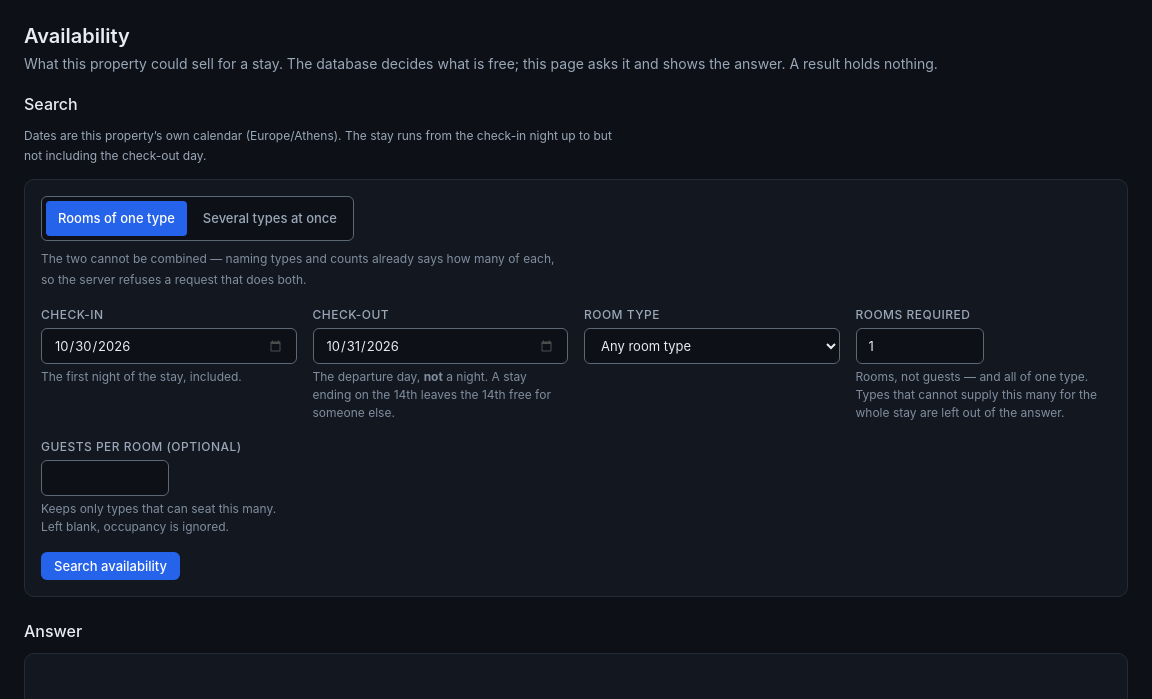
it: a mixed request › cannot express the combination the backend refuses
The width and height of the screenshot is (1152, 699).
Check: the date field labelled "Check-in" is shown, box [41,328,296,364]
Check: the dropdown labelled "Room type" is shown, box [584,328,840,364]
Click the radio button labelled "Several types at once". click: (270, 218)
box: [203,210,337,226]
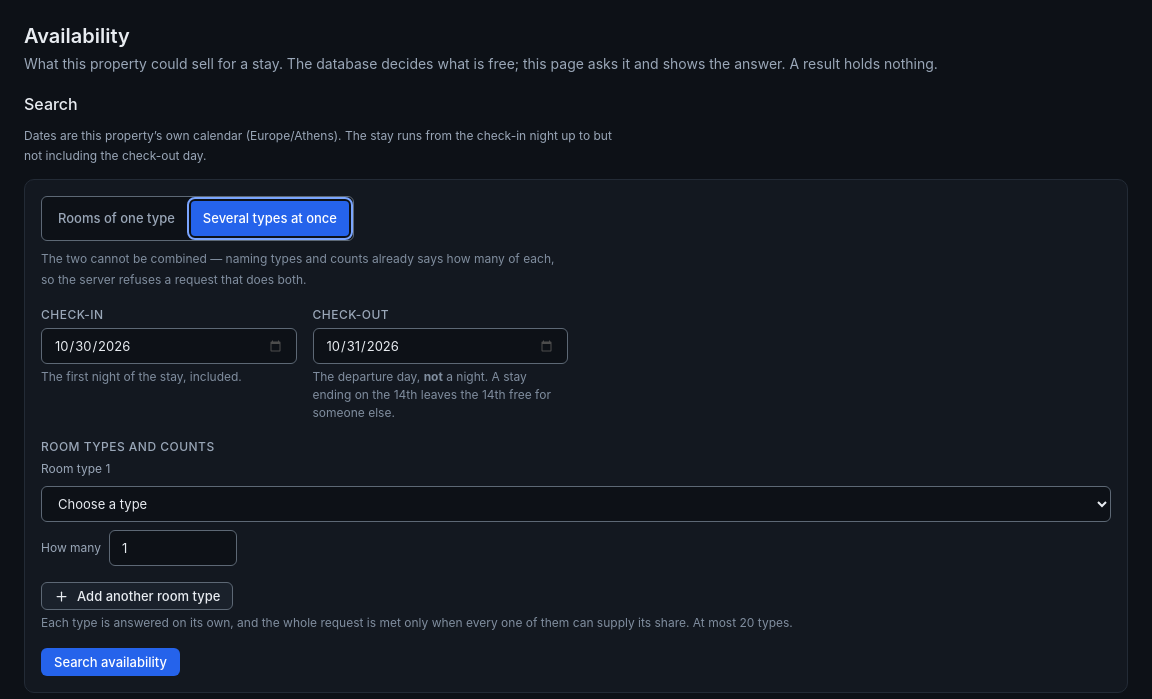
Check: the label labelled "Rooms required" is gone
Check: the dropdown labelled "Room type 1" is shown, box [41,486,1111,522]
